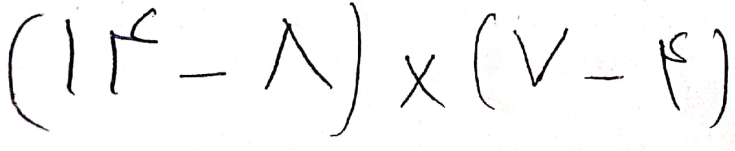character: (5, 12, 52, 133), (263, 18, 333, 90), (108, 6, 158, 97), (333, 1, 364, 137), (514, 27, 569, 90), (398, 53, 448, 111), (473, 11, 498, 112), (658, 29, 688, 112), (708, 28, 732, 128), (61, 16, 77, 98), (178, 68, 227, 81), (583, 73, 623, 84)
